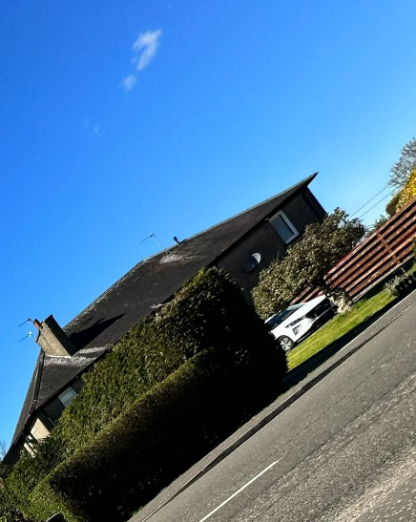car: (259, 288, 338, 352)
